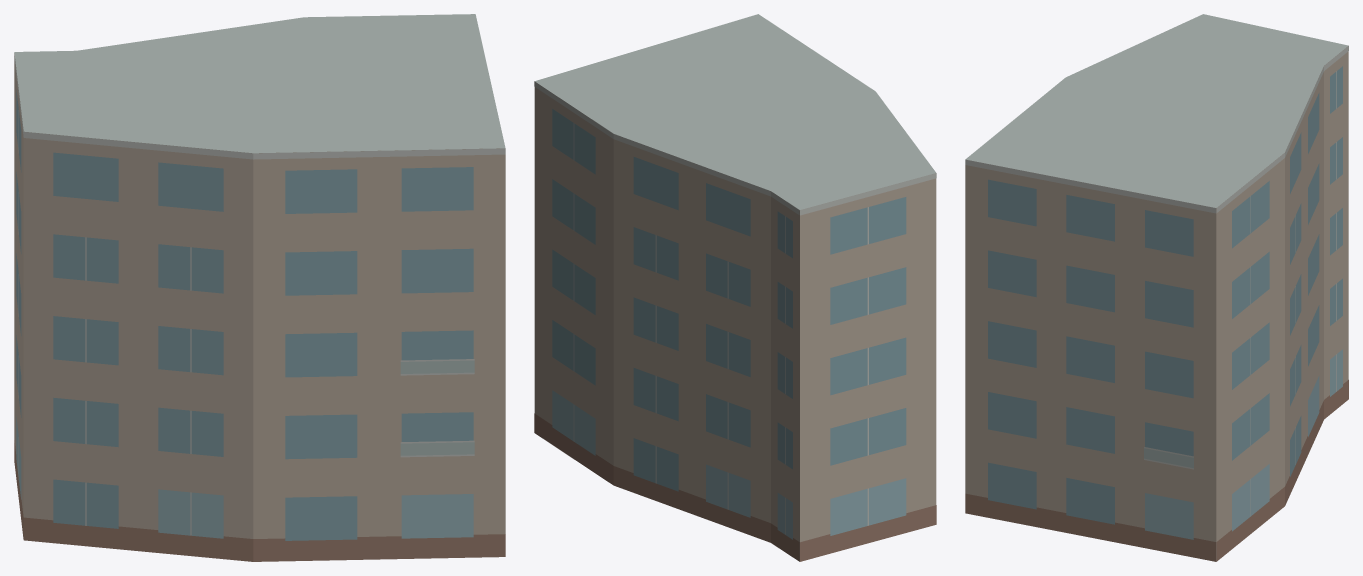
The model's file is survey-upis-33032692.glb.
The picture shows the model from 3 angles, left to right: view 1: azimuth 30°, elevation 25°; view 2: azimuth 150°, elevation 25°; view 3: azimuth 270°, elevation 25°; orthographic projection. The views are drawn at different scales.
Visible parts, largest first — view 1: survey-upis-33032692.tmp; view 2: survey-upis-33032692.tmp; view 3: survey-upis-33032692.tmp.
Part boxes in pixels (<box>): survey-upis-33032692.tmp: <box>14,14,505,561</box>; survey-upis-33032692.tmp: <box>534,14,936,561</box>; survey-upis-33032692.tmp: <box>965,14,1348,561</box>.
Size of the model in its own units: 18.72 by 15.9 by 15.63.
